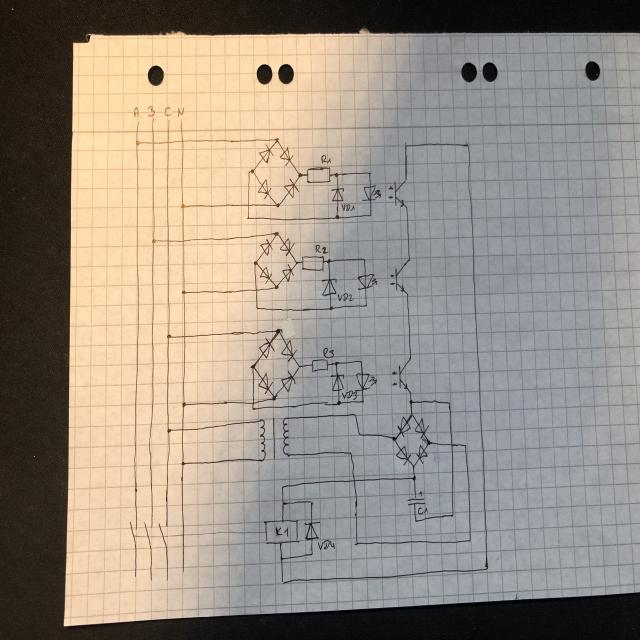capacitor: (407, 490, 426, 506)
crossover: (178, 136, 186, 146), (179, 424, 187, 434), (250, 396, 258, 406), (149, 139, 157, 148), (164, 138, 172, 147), (448, 440, 456, 449), (245, 200, 252, 210), (164, 236, 172, 244), (180, 237, 187, 246), (181, 332, 188, 341), (351, 476, 358, 485), (253, 286, 260, 294)
diode: (280, 340, 297, 362), (284, 177, 300, 199), (281, 370, 296, 393), (303, 520, 320, 540), (395, 445, 411, 466), (414, 417, 429, 439), (258, 338, 274, 358), (258, 143, 273, 164), (258, 372, 272, 394), (258, 178, 272, 199), (397, 416, 411, 437), (321, 278, 337, 296), (330, 374, 345, 392), (280, 147, 294, 165), (280, 238, 294, 256), (416, 444, 428, 464), (260, 238, 273, 256), (259, 266, 272, 284), (330, 187, 345, 202), (282, 264, 294, 282)
junction: (247, 167, 256, 175), (180, 400, 187, 408), (134, 138, 140, 146), (180, 204, 186, 212), (181, 288, 187, 296), (166, 332, 172, 340), (166, 426, 172, 434), (180, 459, 186, 467), (281, 498, 287, 506), (278, 554, 284, 562), (308, 548, 314, 556), (308, 499, 314, 507), (280, 484, 286, 492), (280, 578, 286, 586), (250, 405, 256, 413), (250, 363, 256, 371), (271, 394, 277, 402), (296, 362, 302, 370), (275, 327, 281, 335), (358, 358, 364, 366), (359, 397, 365, 405), (336, 398, 342, 406), (352, 411, 358, 419), (356, 430, 362, 438), (411, 474, 417, 482), (413, 516, 419, 524), (446, 399, 452, 407), (409, 410, 415, 418), (426, 438, 432, 446), (412, 462, 418, 470), (467, 536, 473, 544), (462, 441, 468, 449), (484, 564, 490, 572), (254, 303, 260, 311), (326, 257, 332, 265), (362, 255, 368, 263), (368, 210, 374, 218), (334, 212, 340, 220), (246, 214, 252, 222), (367, 169, 373, 177), (403, 142, 409, 150), (275, 200, 281, 208), (297, 171, 303, 179), (274, 136, 280, 144), (274, 230, 280, 238), (294, 258, 300, 266), (274, 282, 280, 290), (252, 258, 258, 266), (464, 141, 470, 149), (150, 237, 156, 244), (450, 511, 456, 518), (408, 354, 414, 361), (334, 360, 339, 368), (347, 450, 352, 458), (391, 434, 396, 442), (354, 539, 359, 547), (408, 397, 413, 405), (328, 305, 333, 313), (334, 170, 339, 178), (404, 176, 409, 183), (405, 291, 410, 297), (363, 302, 368, 308), (405, 206, 410, 212), (407, 389, 412, 395), (408, 256, 412, 263)
resistor: (306, 167, 331, 183), (302, 255, 325, 271), (311, 358, 329, 372)
switch: (158, 519, 170, 549), (143, 520, 154, 546), (128, 518, 138, 544)
terminal: (180, 566, 186, 578), (150, 117, 156, 126), (166, 117, 172, 126), (133, 571, 139, 580), (148, 576, 154, 584), (164, 576, 170, 584), (136, 119, 141, 128), (179, 116, 184, 125)
text: (317, 540, 336, 550), (274, 525, 289, 537), (341, 390, 357, 401), (338, 292, 354, 302), (315, 244, 329, 255), (341, 202, 355, 212), (322, 347, 334, 358), (321, 154, 331, 165), (147, 105, 155, 117), (418, 506, 428, 515), (164, 105, 172, 116), (133, 106, 140, 118), (177, 107, 184, 118)
transformer: (258, 414, 291, 462)
